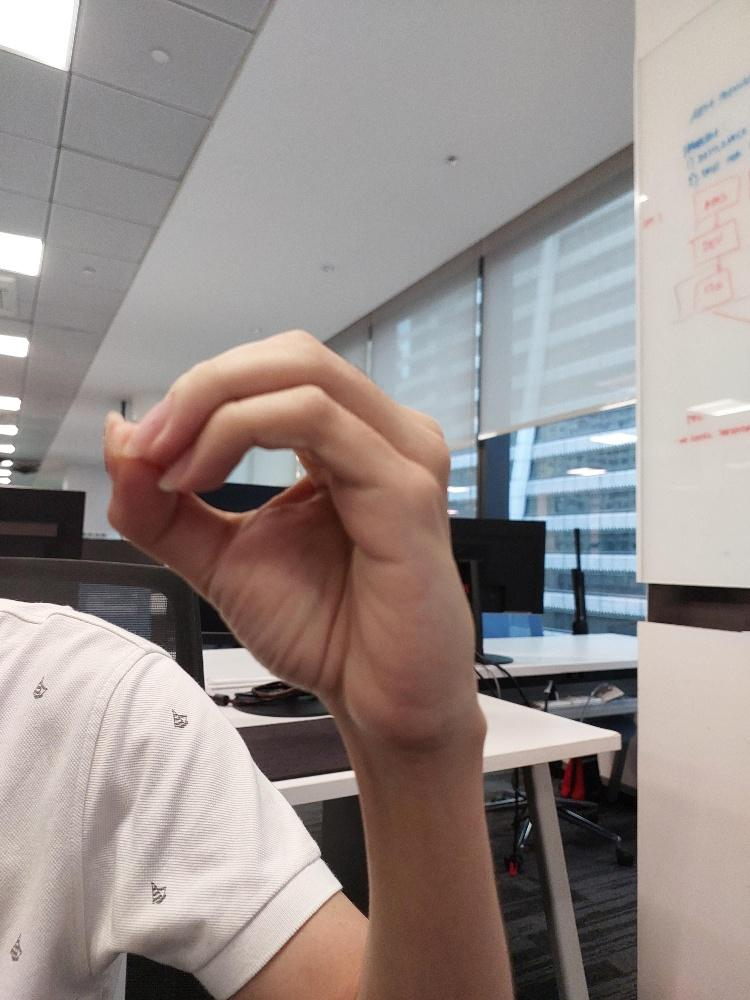o: (101, 319, 479, 744)
